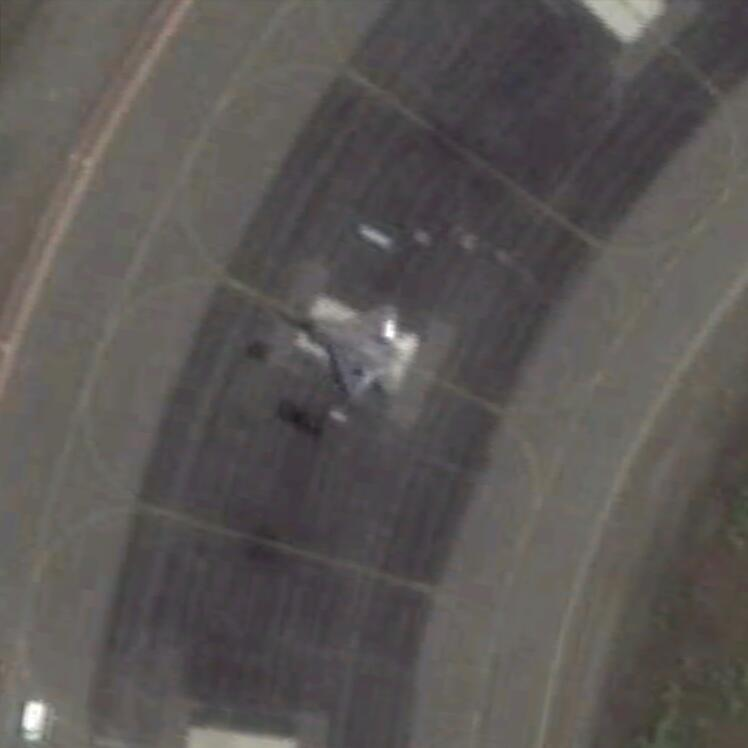A15: (262, 293, 426, 404)
